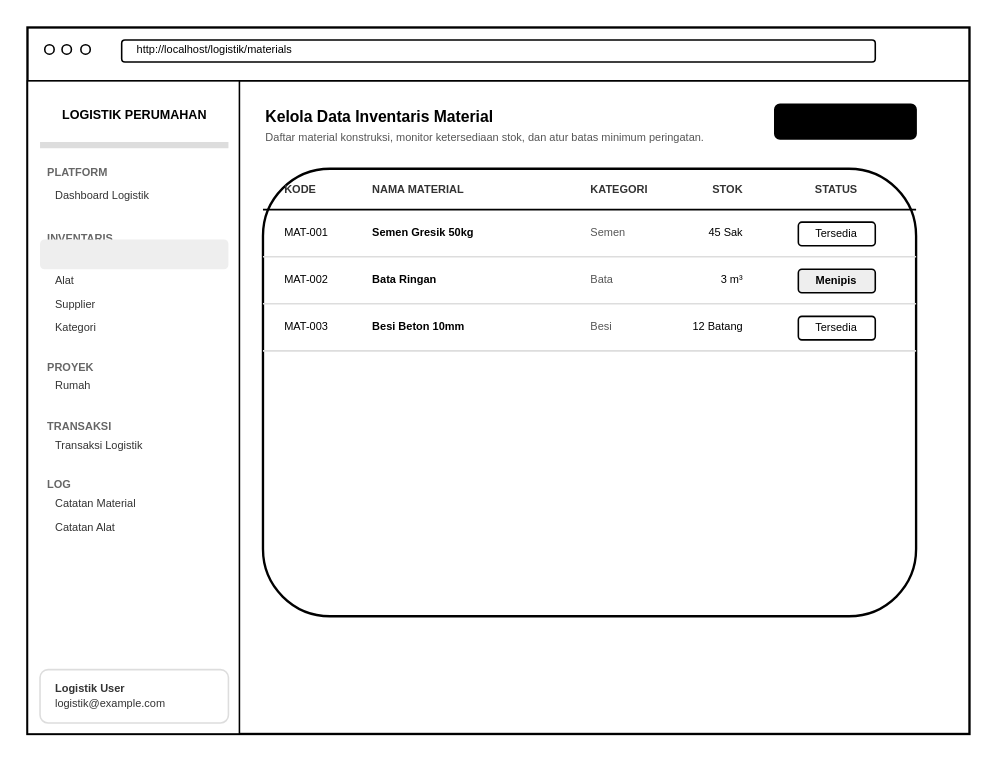
The diagram is 999 pixels wide and 763 high, and some of its shapes have lost their labels. The shapes that lost their labels are listed below. From the top down, each one's centre as x and y in pixels, then its label:
At [844,121]: "Tambah Material +".
At [133,253]: "Material".
